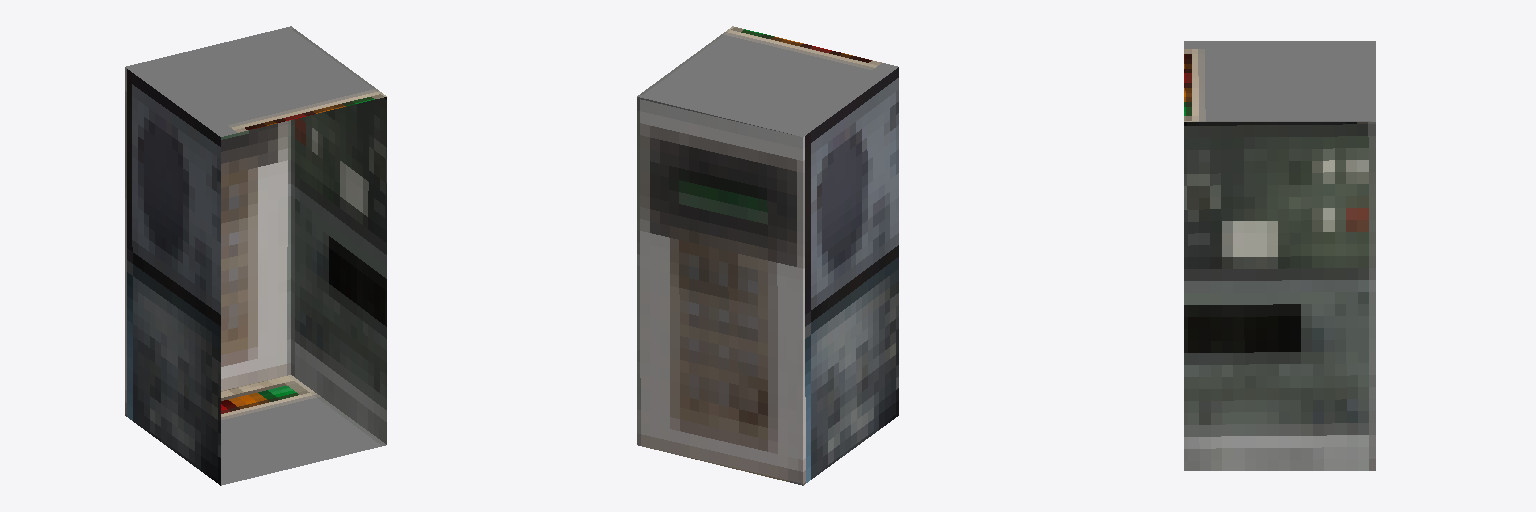
3 renders of one model, left to right at view 1: azimuth 30°, elevation 25°; view 2: azimuth 150°, elevation 25°; view 3: azimuth 270°, elevation 25°, orthographic.
Visible parts, largest first — view 1: Cube_Cube.001; view 2: Cube_Cube.001; view 3: Cube_Cube.001.
Boxes of the visible parts, x1,y1,x2,y2 form: Cube_Cube.001: [125, 26, 386, 485]; Cube_Cube.001: [637, 26, 898, 485]; Cube_Cube.001: [1184, 41, 1375, 470].
Bounding box in the file's own units: 6.96 × 13.92 × 6.96.
1 materials, 1 textured.